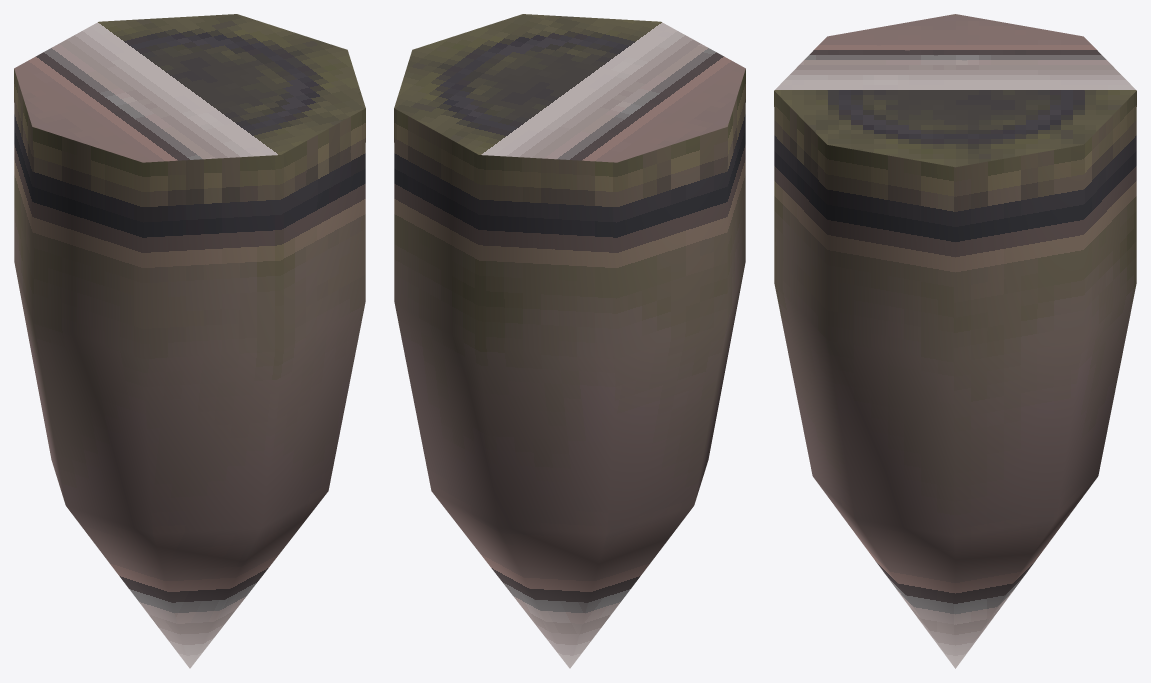
The model's file is compound_bullet.glb.
3 renders of one model, left to right at view 1: azimuth 30°, elevation 25°; view 2: azimuth 150°, elevation 25°; view 3: azimuth 270°, elevation 25°, orthographic.
Visible parts, largest first — view 1: parts.bullet-MeshNodes["bullet"]; view 2: parts.bullet-MeshNodes["bullet"]; view 3: parts.bullet-MeshNodes["bullet"].
Part boxes in pixels (bbox=[...]): parts.bullet-MeshNodes["bullet"]: bbox=[14, 14, 365, 668]; parts.bullet-MeshNodes["bullet"]: bbox=[394, 14, 745, 668]; parts.bullet-MeshNodes["bullet"]: bbox=[774, 14, 1136, 668].
Size of the model in its own units: 0.3197 by 0.5625 by 0.3197.
Materials: 1 (1 with a texture image).
